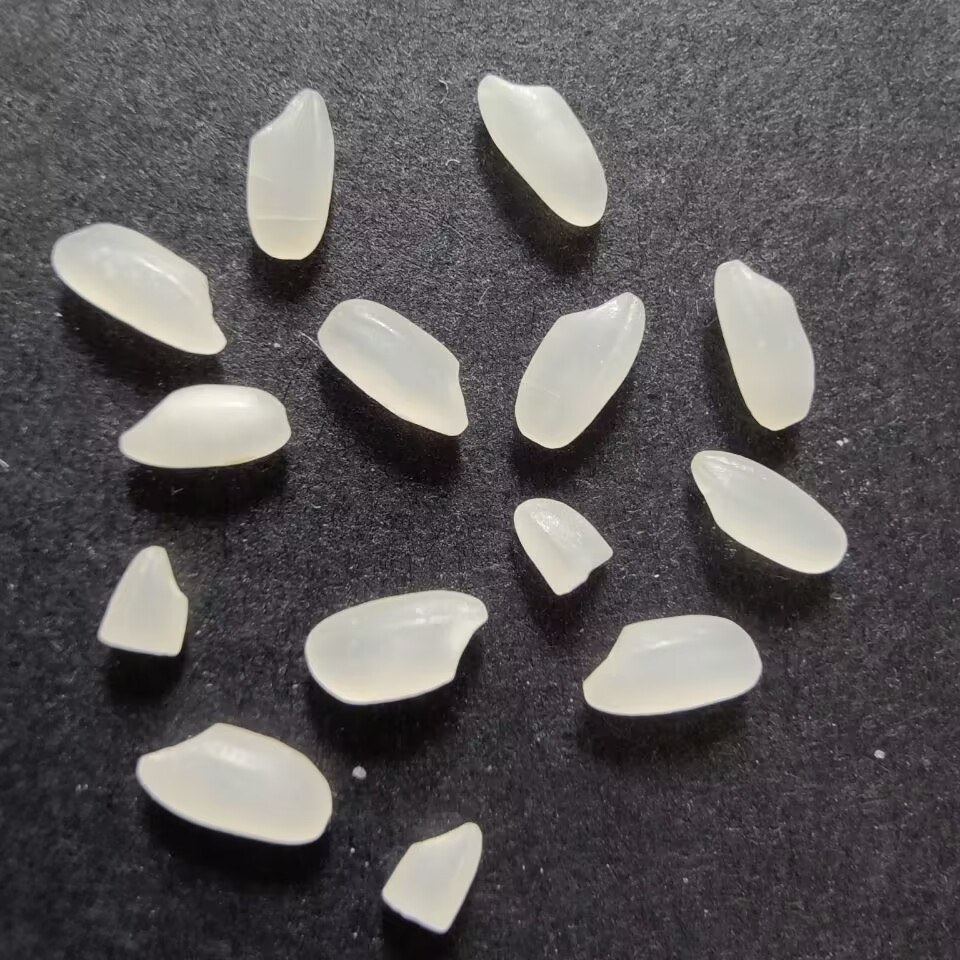broken: (89, 537, 197, 663), (378, 818, 490, 936), (509, 492, 617, 602)
rice: (128, 717, 337, 850), (46, 220, 232, 356), (311, 296, 477, 443), (683, 443, 853, 579), (512, 284, 648, 454), (300, 588, 491, 707), (475, 68, 611, 230), (579, 611, 764, 721), (711, 255, 822, 435), (239, 82, 340, 266), (108, 379, 297, 471)
